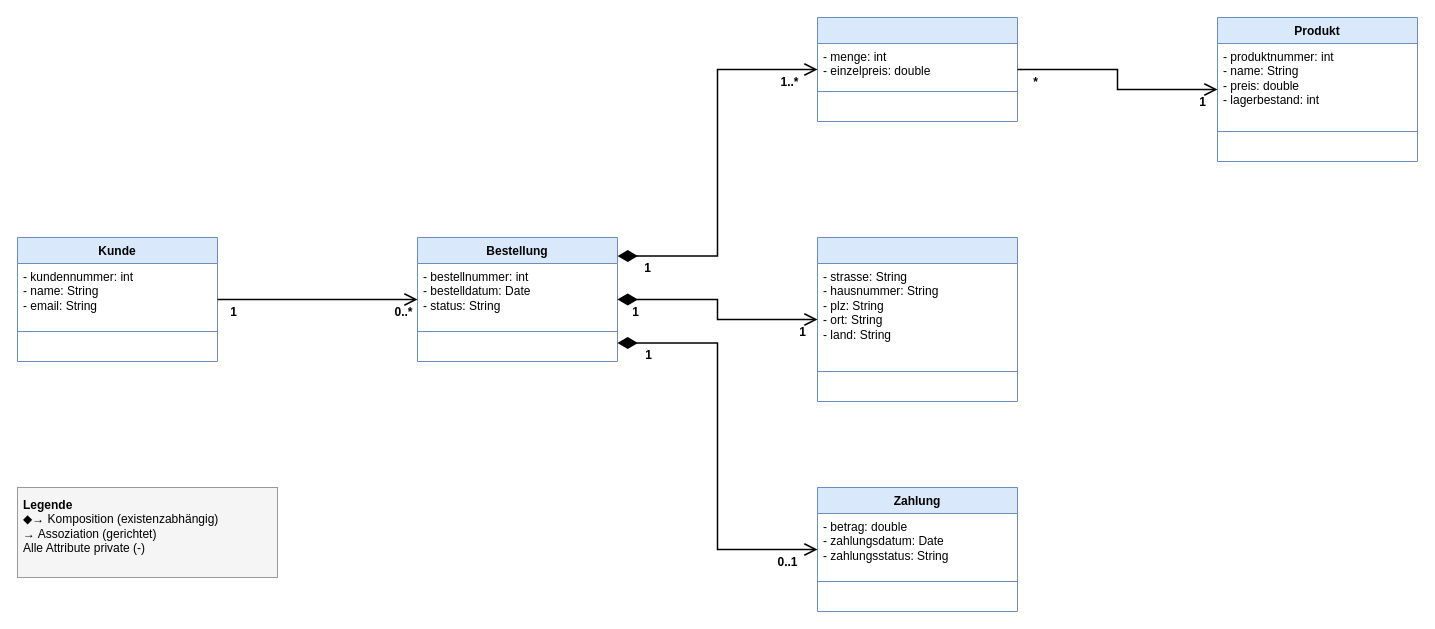
The diagram is 1435 pixels wide and 629 high, and some of its shapes have lost their labels. The shapes that lost their labels are listed below. From the top down, each one's box as (x1, y1, x2, y2) in pixels, then its label:
(816, 16, 1018, 122): Bestellposition
(816, 236, 1018, 402): Lieferadresse
